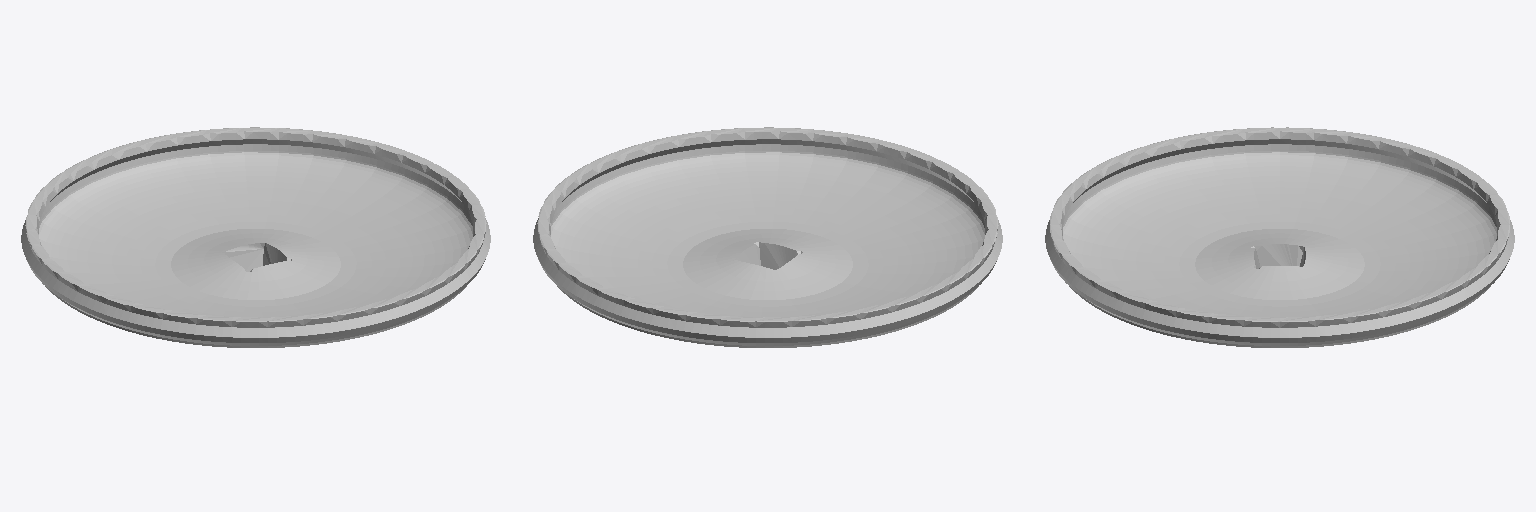
File: bowl3.obj
3 views of the same model, side by side, from view 1: azimuth 30°, elevation 25°; view 2: azimuth 150°, elevation 25°; view 3: azimuth 270°, elevation 25° (orthographic).
Parts seen in each view (by area): view 1: polySurface14; view 2: polySurface14; view 3: polySurface14.
Part boxes in pixels (x1,y1,x2,y2): polySurface14: (21,127,490,347); polySurface14: (533,127,1002,347); polySurface14: (1045,127,1514,347).
Bounding box in the file's own units: 25.27 × 3.74 × 25.27.